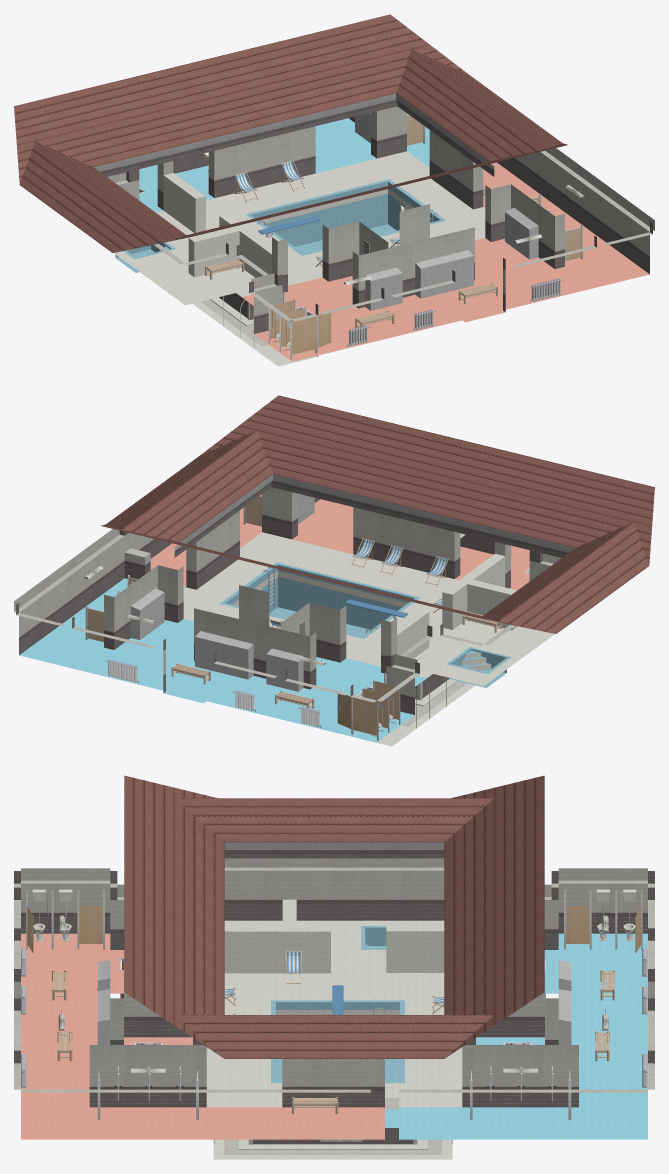
The model's file is Pool.glb.
3 renders of one model, top to bottom at view 1: azimuth 30°, elevation 25°; view 2: azimuth 150°, elevation 25°; view 3: azimuth 270°, elevation 25°, orthographic. The views are drawn at different scales.
Parts seen in each view (by area): view 1: Main, Props; view 2: Main, Props; view 3: Main, Props.
Part boxes in pixels (x1,y1,x2,y2): Main: (14,14,654,366); Props: (139,112,584,359); Main: (14,395,654,746); Props: (84,493,529,740); Main: (14,775,654,1159); Props: (21,889,647,1119).
Bounding box in the file's own units: 29.92 × 9.42 × 30.89.
Materials: 22 (22 with a texture image).
